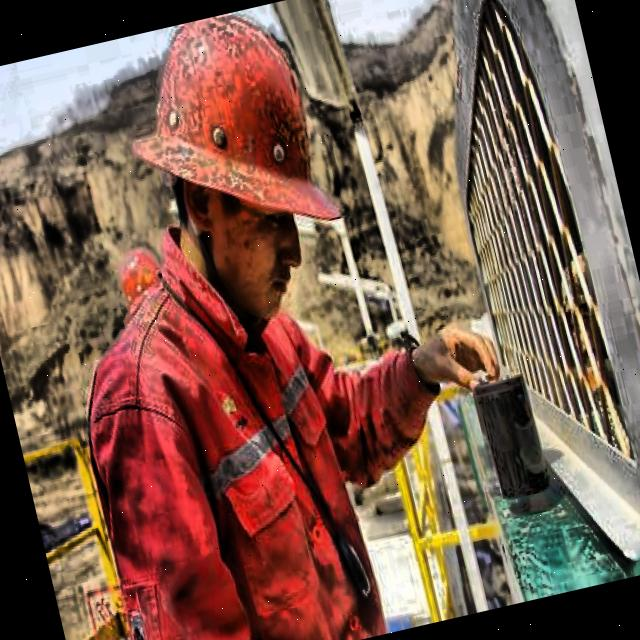helmet: (114, 0, 378, 344)
